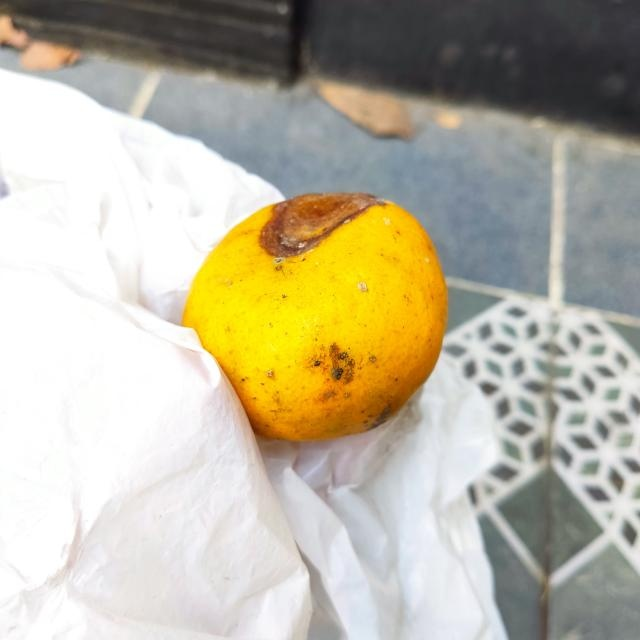agrume: (182, 192, 449, 448)
